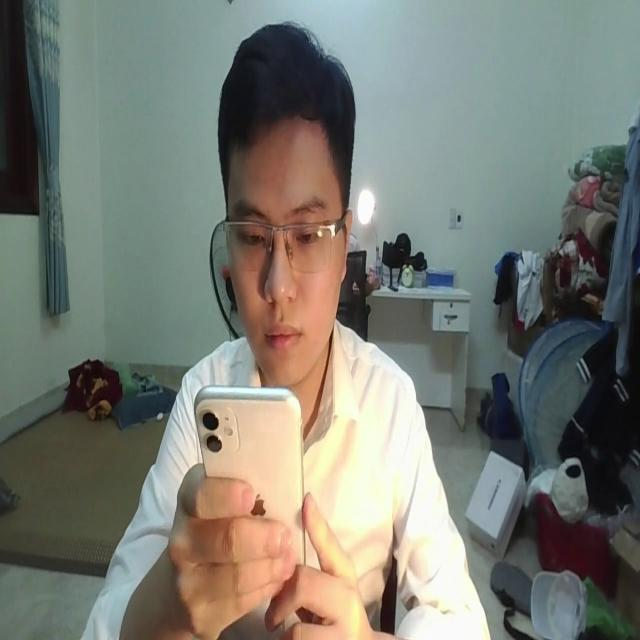phone: (193, 374, 304, 586)
student: (81, 14, 494, 640)
